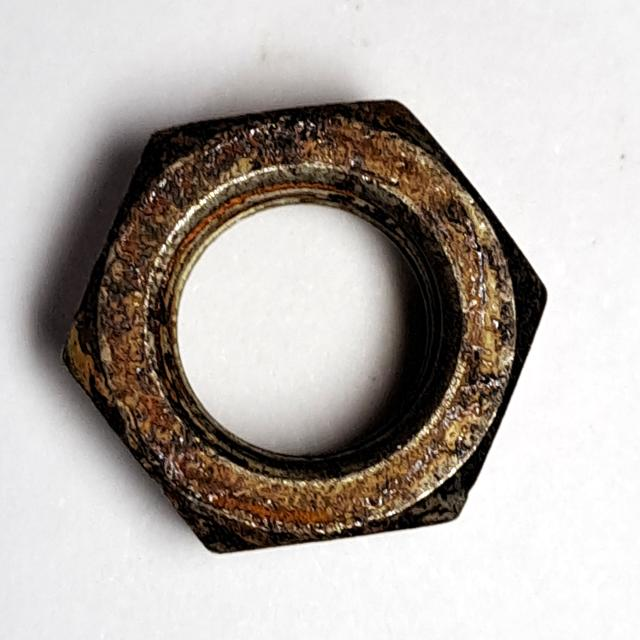Rust: (49, 85, 559, 573)
